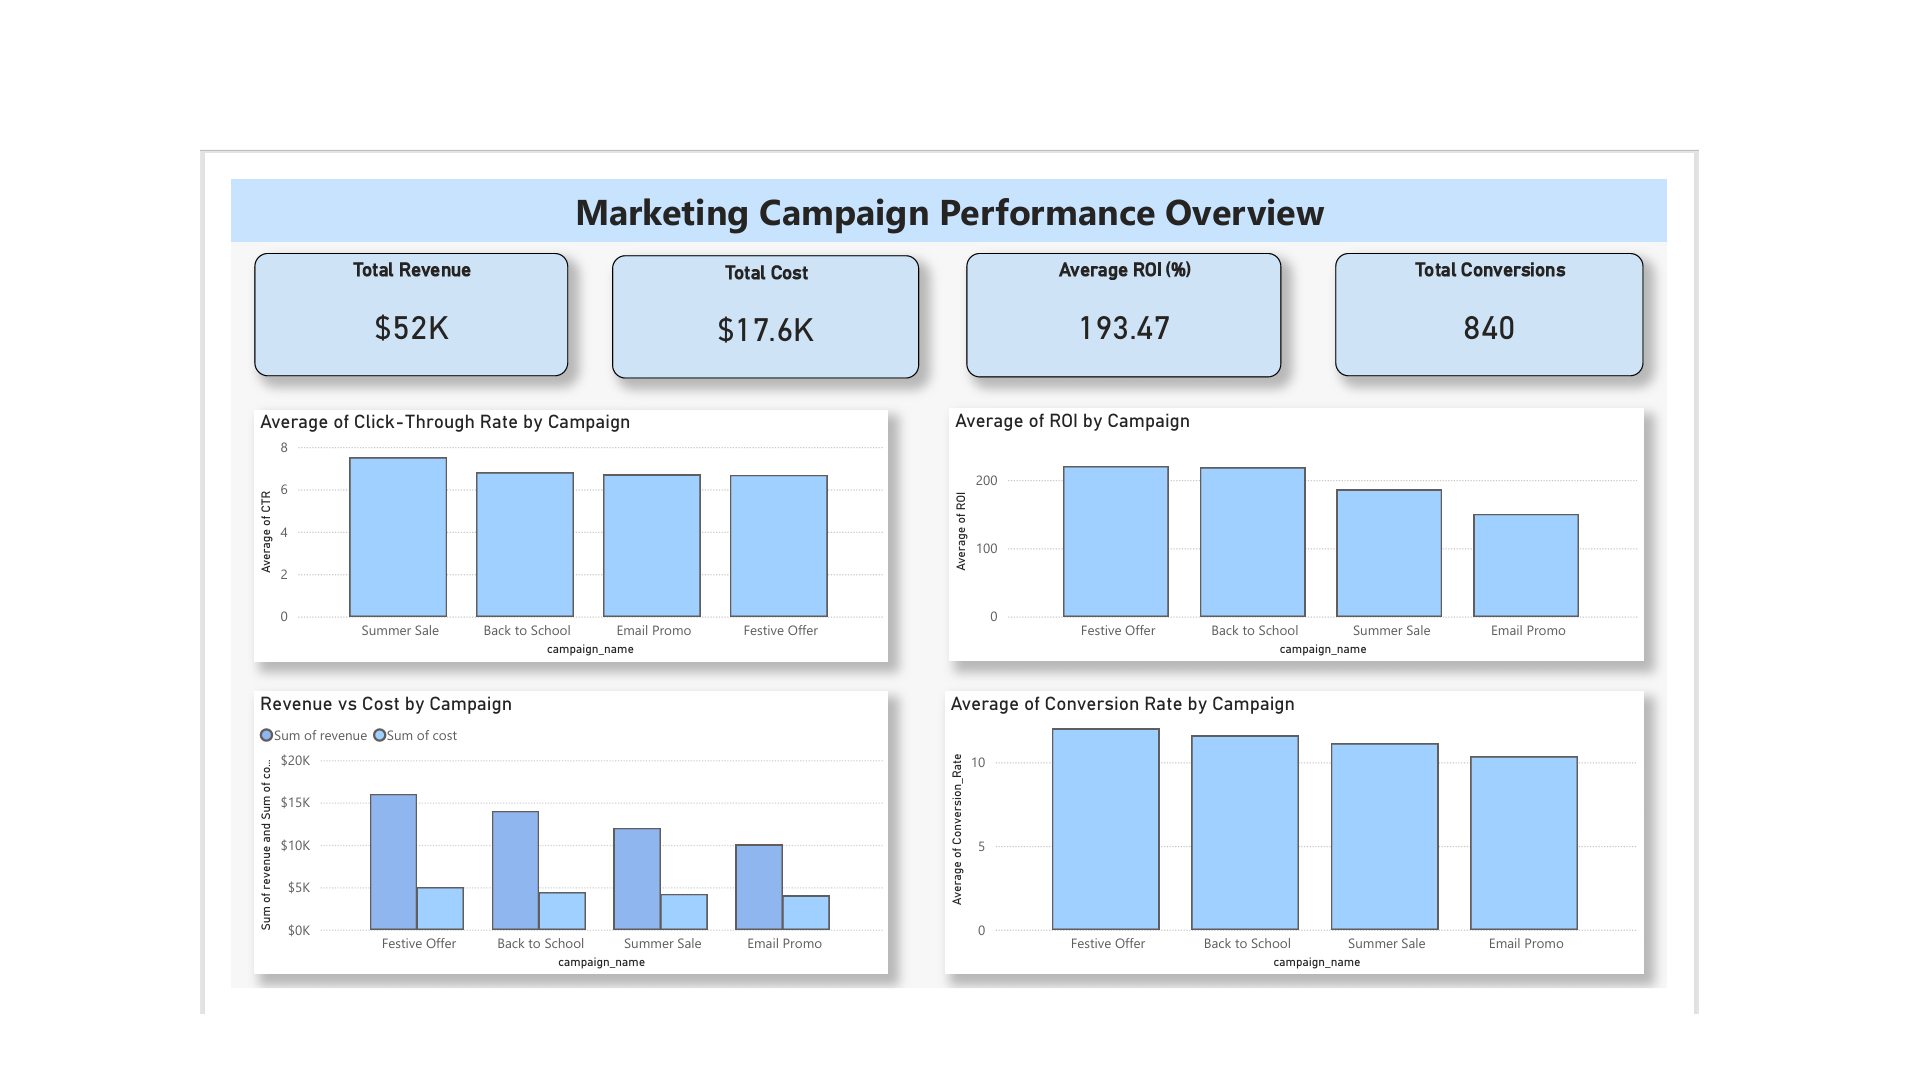

This screenshot's page, from the dashboard's own definition file:
{"tool":"powerbi","page":{"name":"Page 1","canvas":[1280,720],"ordinal":0},"visuals":[{"type":"clusteredColumnChart","title":"Average of ROI by Campaign","fields":{"Category":["Sheet1.campaign_name"],"Y":["Avg(Sheet1.ROI)"]},"box":[640,204,618.7,225.3],"z":0},{"type":"clusteredColumnChart","title":"Average of Click-Through Rate by Campaign","fields":{"Category":["Sheet1.campaign_name"],"Y":["Avg(Sheet1.CTR)"]},"box":[20,205.3,565.3,224],"z":1000},{"type":"clusteredColumnChart","title":"Average of Conversion Rate by Campaign","fields":{"Category":["Sheet1.campaign_name"],"Y":["Avg(Sheet1.Conversion_Rate)"]},"box":[636,456,622.7,252],"z":2000},{"type":"textbox","box":[0,0,1280.3,56],"z":3000},{"type":"card","title":"Total Revenue","fields":{"Values":["Sum(Sheet1.revenue)"]},"box":[20,65.3,280,109.3],"z":4000},{"type":"card","title":"Total Cost","fields":{"Values":["Sum(Sheet1.cost)"]},"box":[338.7,66.7,274.7,110.7],"z":5000},{"type":"card","title":"Total Conversions","fields":{"Values":["Sum(Sheet1.conversions)"]},"box":[984,65.3,274.7,109.3],"z":6000},{"type":"card","title":"Average ROI (%)","fields":{"Values":["Avg(Sheet1.ROI)"]},"box":[654.7,65.3,281.3,110.7],"z":7000},{"type":"clusteredColumnChart","title":"Revenue vs Cost by Campaign","fields":{"Category":["Sheet1.campaign_name"],"Y":["Sum(Sheet1.revenue)","Sum(Sheet1.cost)"]},"box":[20,456,565.3,252],"z":8000}]}

Visuals, with their boxes in screenshot pixels (x1, y1, x2, y2), scaled from the page's 1280x720 canvas onto the 1920x1080 screenshot:
"Average of ROI by Campaign" clusteredColumnChart: bbox=(960, 306, 1888, 644)
"Average of Click-Through Rate by Campaign" clusteredColumnChart: bbox=(30, 308, 878, 644)
"Average of Conversion Rate by Campaign" clusteredColumnChart: bbox=(954, 684, 1888, 1062)
textbox: bbox=(0, 0, 1919, 84)
"Total Revenue" card: bbox=(30, 98, 450, 262)
"Total Cost" card: bbox=(508, 100, 920, 266)
"Total Conversions" card: bbox=(1476, 98, 1888, 262)
"Average ROI (%)" card: bbox=(982, 98, 1404, 264)
"Revenue vs Cost by Campaign" clusteredColumnChart: bbox=(30, 684, 878, 1062)
